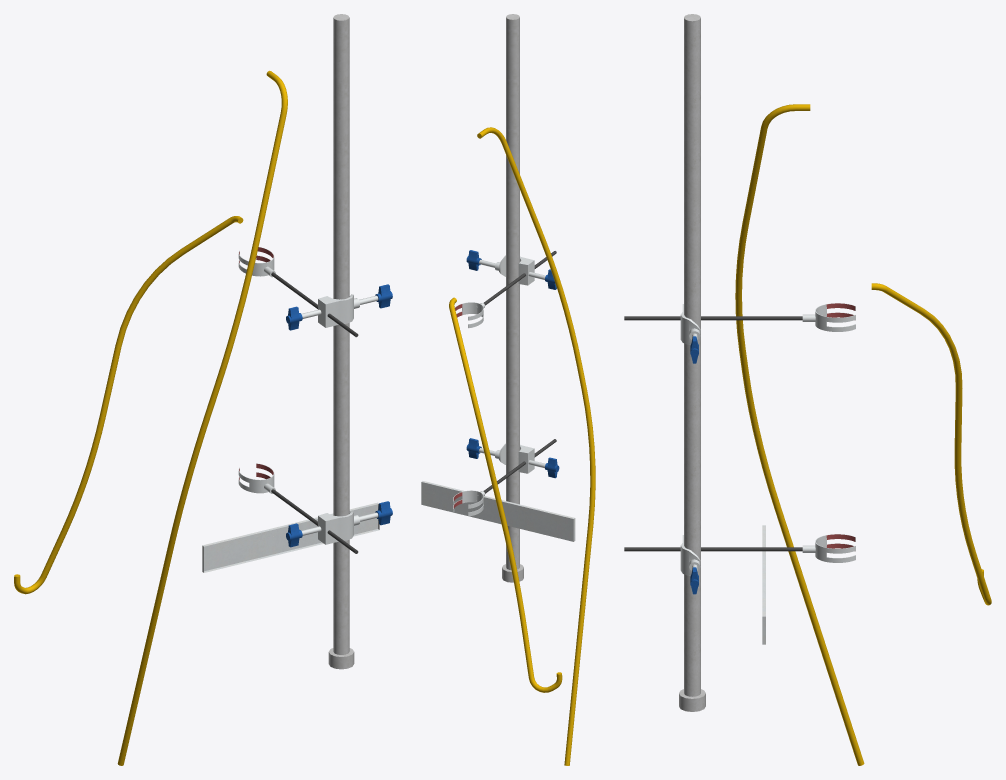
File: SM_数显恒温水浴锅_架子.fbx
3 views of the same model, side by side, from view 1: azimuth 30°, elevation 25°; view 2: azimuth 150°, elevation 25°; view 3: azimuth 270°, elevation 25° (orthographic). The views are drawn at different scales.
Parts seen in each view (by area): view 1: SM_数显恒温水浴锅_架子; view 2: SM_数显恒温水浴锅_架子; view 3: SM_数显恒温水浴锅_架子.
Boxes of the visible parts, x1,y1,x2,y2 form: SM_数显恒温水浴锅_架子: (14,14,392,765); SM_数显恒温水浴锅_架子: (421,14,595,765); SM_数显恒温水浴锅_架子: (624,14,991,765).
Size of the model in its own units: 0.4769 by 1.34 by 0.5423.
